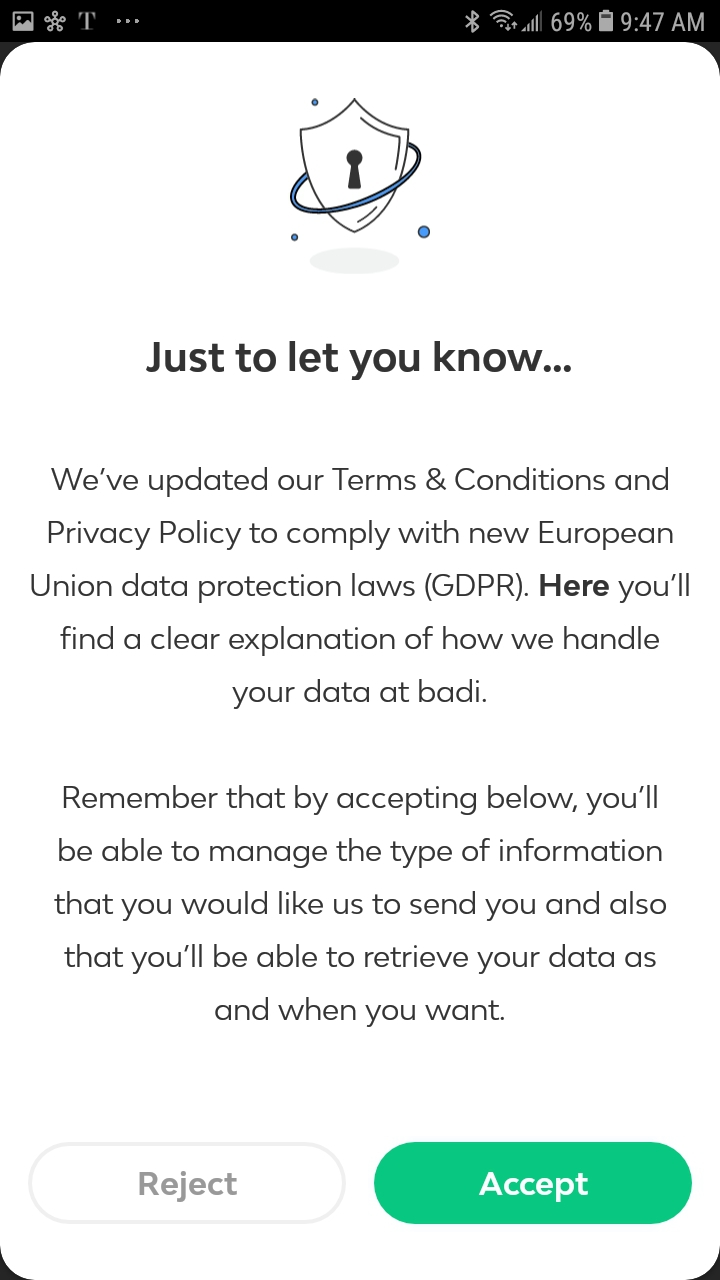Image: (290, 98, 431, 276)
Text: (31, 466, 690, 710), (54, 784, 667, 1028), (146, 341, 572, 382)
TextButton: (28, 1141, 347, 1224), (374, 1142, 692, 1225)
UpperTaskBar: (2, 1, 720, 43)
